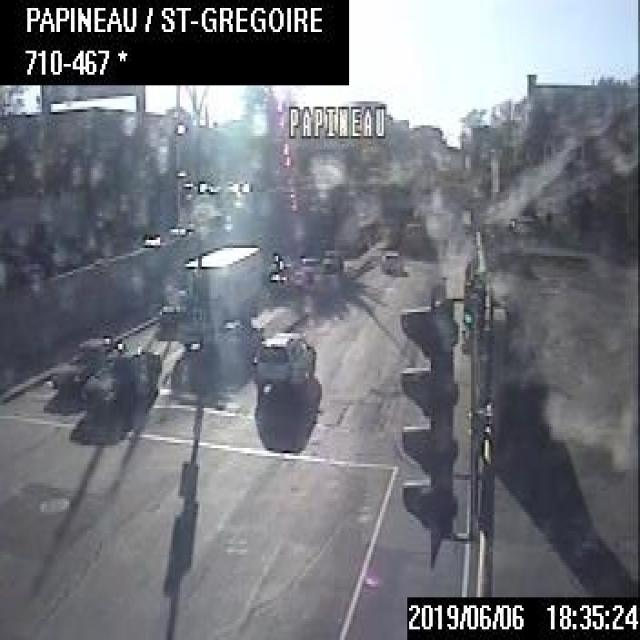vehicle: (159, 244, 262, 333), (50, 331, 114, 401), (89, 358, 160, 413), (254, 328, 314, 387), (378, 248, 402, 272)
